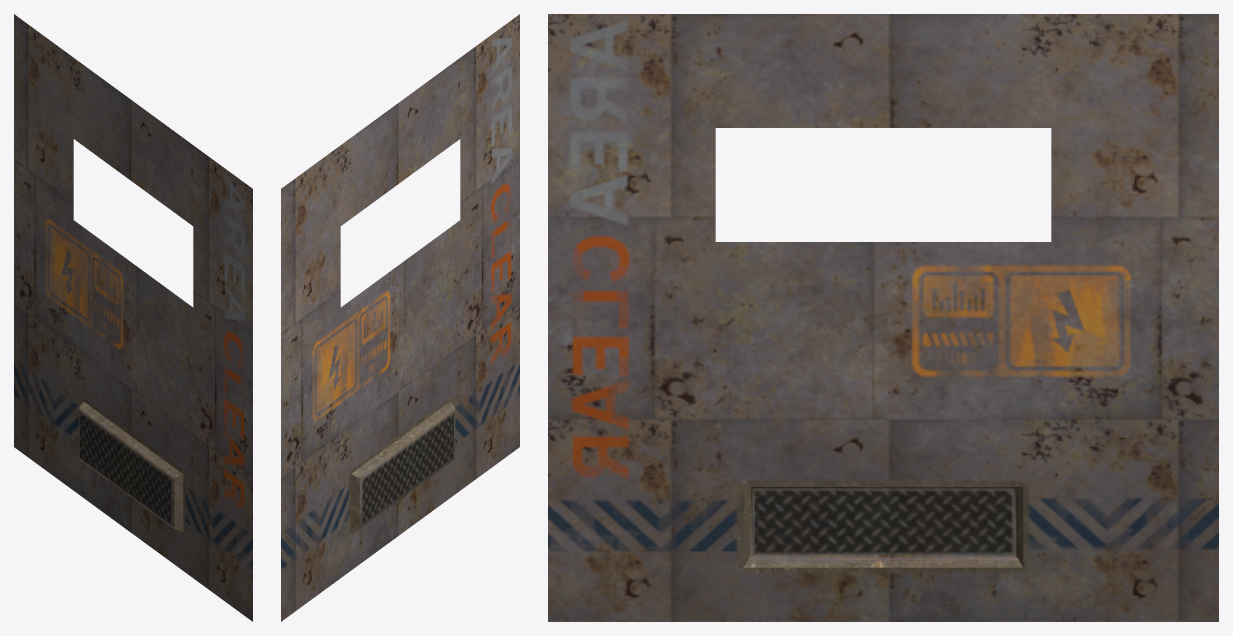
File: SM_Modular_Walls_Two_LP_Plain_Wall6.fbx
3 renders of one model, left to right at view 1: azimuth 30°, elevation 25°; view 2: azimuth 150°, elevation 25°; view 3: azimuth 270°, elevation 25°, orthographic. The views are drawn at different scales.
Parts seen in each view (by area): view 1: SM_Modular_Walls_Two_LP_Plain_Wall6_LOD0; view 2: SM_Modular_Walls_Two_LP_Plain_Wall6_LOD0; view 3: SM_Modular_Walls_Two_LP_Plain_Wall6_LOD0.
Part boxes in pixels (left/top/right/bottom): SM_Modular_Walls_Two_LP_Plain_Wall6_LOD0: left=14, top=14, right=252, bottom=621; SM_Modular_Walls_Two_LP_Plain_Wall6_LOD0: left=281, top=14, right=519, bottom=621; SM_Modular_Walls_Two_LP_Plain_Wall6_LOD0: left=548, top=14, right=1218, bottom=621.
Bounding box in the file's own units: 4.59 × 240 × 240.
Materials: 1 (1 with a texture image).
